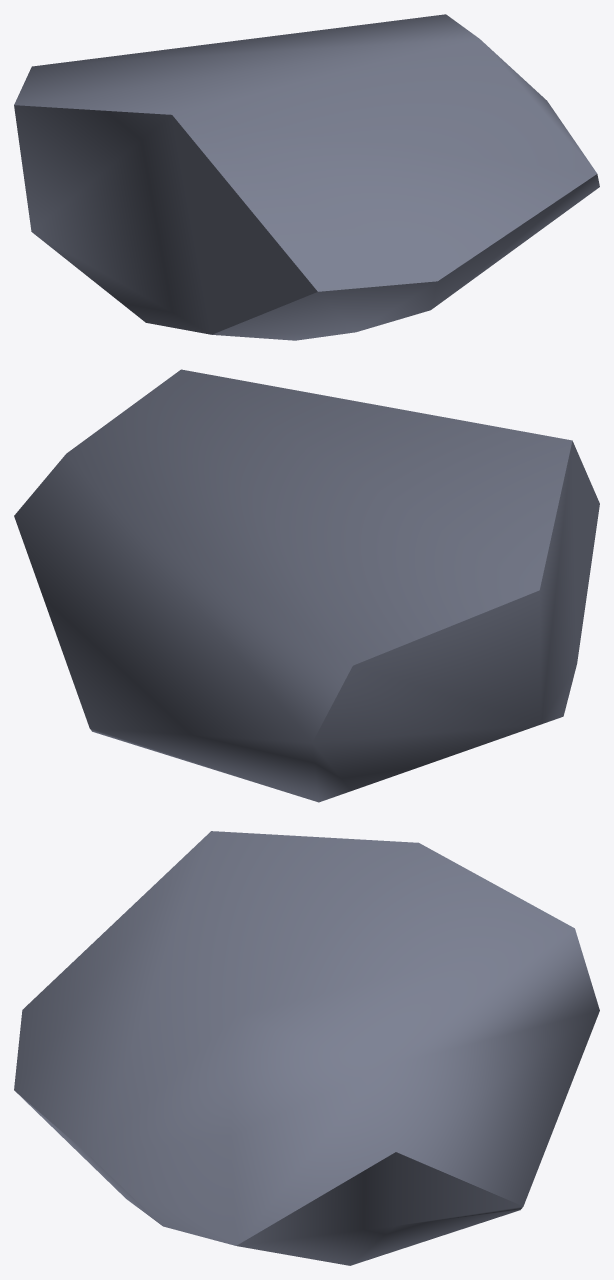
Rendered from Sm_Rocks6L.fbx.
The picture shows the model from 3 angles, top to bottom: view 1: azimuth 30°, elevation 25°; view 2: azimuth 150°, elevation 25°; view 3: azimuth 270°, elevation 25°; orthographic projection. The views are drawn at different scales.
Parts seen in each view (by area): view 1: Sm_Rocks6L; view 2: Sm_Rocks6L; view 3: Sm_Rocks6L.
Boxes of the visible parts, x1,y1,x2,y2 form: Sm_Rocks6L: (14,14,599,340); Sm_Rocks6L: (14,369,599,802); Sm_Rocks6L: (14,831,599,1265).
Bounding box in the file's own units: 308 × 155 × 289.
